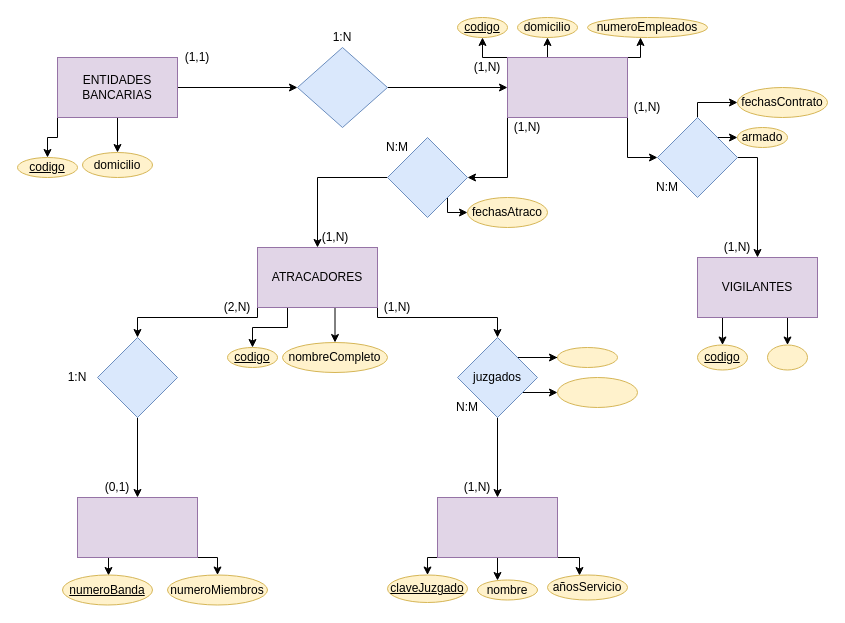
The diagram is 845 pixels wide and 623 high, and some of its shapes have lost their labels. Each missing label, with the box of its shape:
atracadas: (386, 136, 468, 218)
BANDAS: (76, 496, 198, 558)
condena: (556, 346, 618, 368)
contrata: (656, 116, 738, 198)
edad: (766, 344, 808, 370)
integrados: (96, 336, 178, 418)
JUECES: (436, 496, 558, 558)
SUCURSALES: (506, 56, 628, 118)
tiempoCarcel: (556, 376, 638, 408)
tienen: (296, 46, 388, 128)
